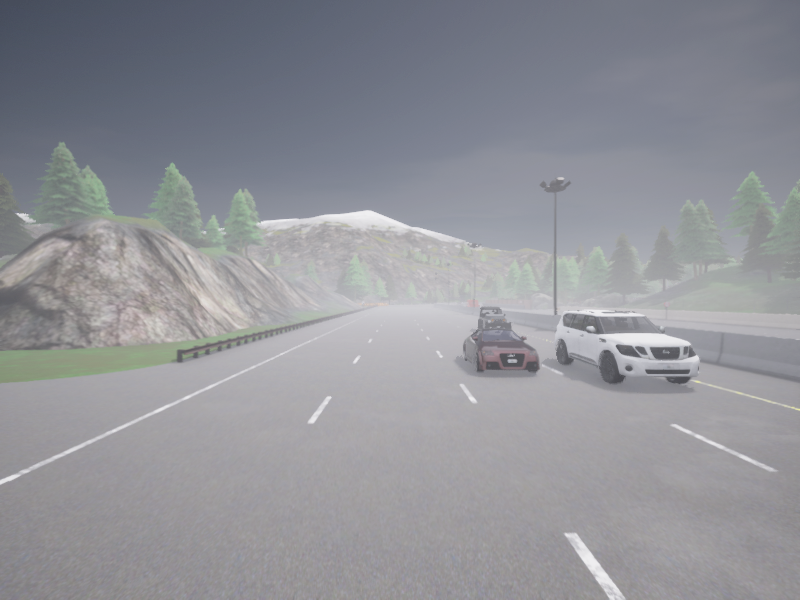vehicle: (554, 310, 698, 383), (463, 328, 539, 372), (477, 307, 511, 329), (465, 300, 478, 307), (462, 301, 466, 305), (456, 302, 461, 305)
